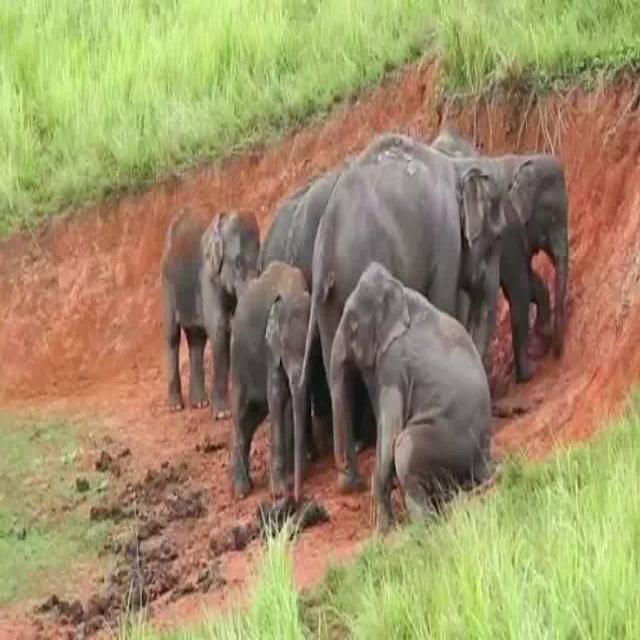Elephant: (331, 140, 502, 316), (340, 278, 475, 483), (499, 148, 579, 344), (168, 192, 262, 358), (236, 277, 315, 439), (272, 184, 334, 267)
